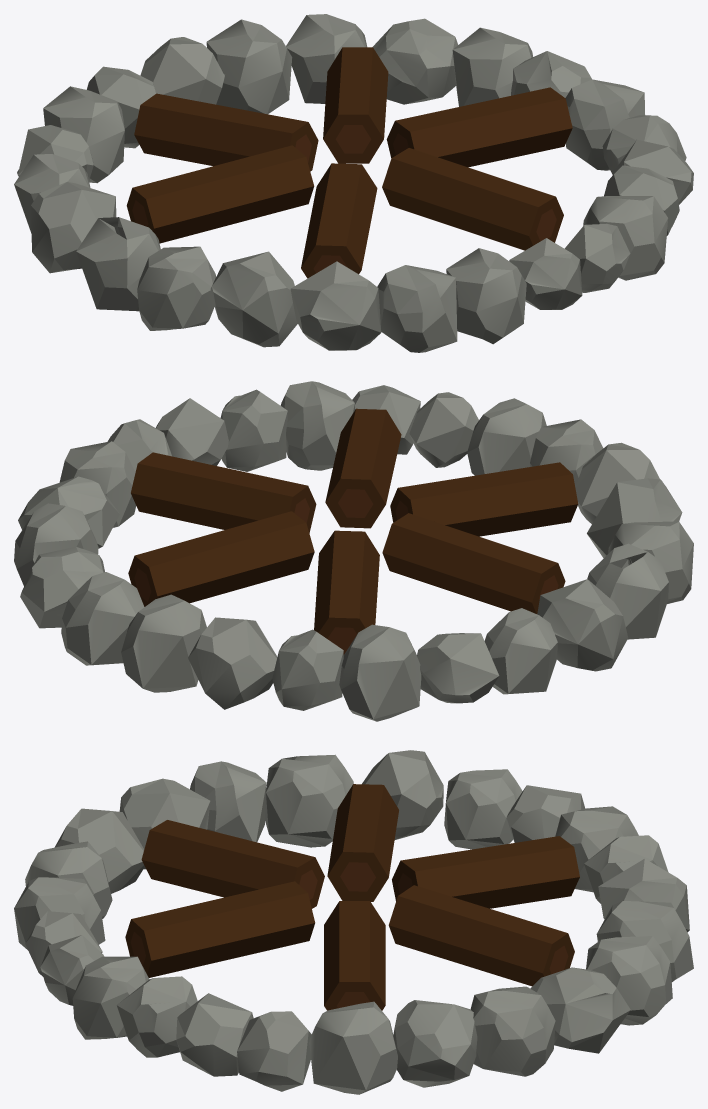
File: Campfire.glb
3 renders of one model, top to bottom at view 1: azimuth 30°, elevation 25°; view 2: azimuth 150°, elevation 25°; view 3: azimuth 270°, elevation 25°, orthographic.
Parts seen in each view (by area): view 1: Campfire; view 2: Campfire; view 3: Campfire.
Boxes of the visible parts, box(x1,y1,x2,y2) form: Campfire: box(14, 14, 693, 352); Campfire: box(14, 381, 693, 721); Campfire: box(14, 750, 693, 1094).
Size of the model in its own units: 2.24 by 0.3412 by 2.25.
